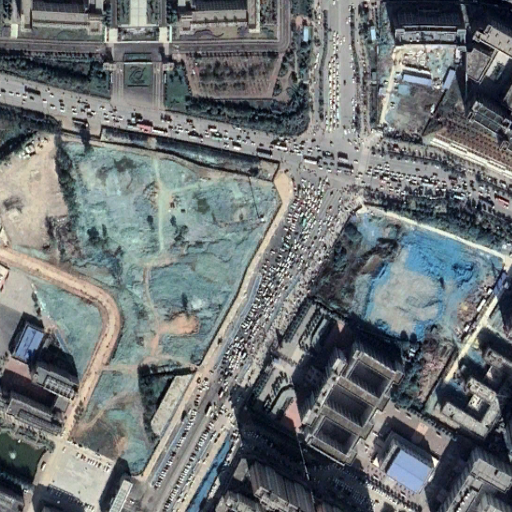cw: (32, 141, 282, 478), (342, 207, 507, 357)
